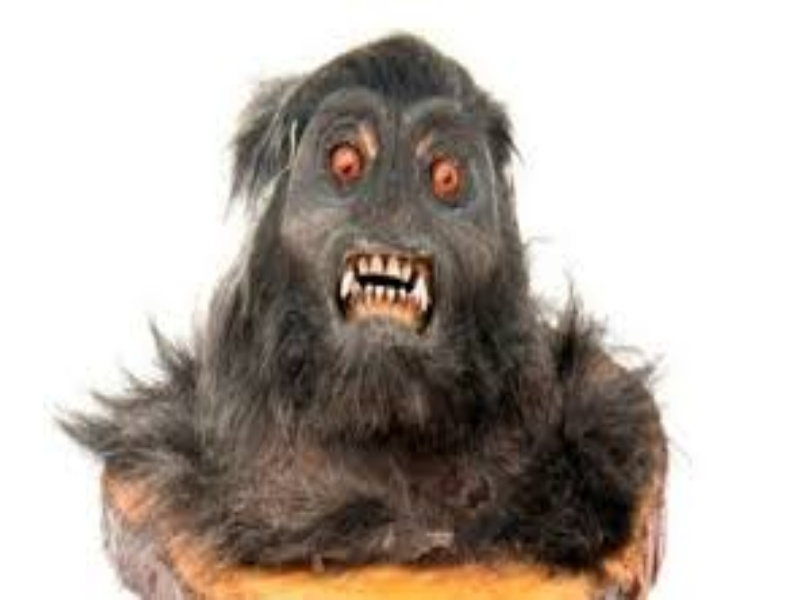monkey: (94, 21, 673, 600)
